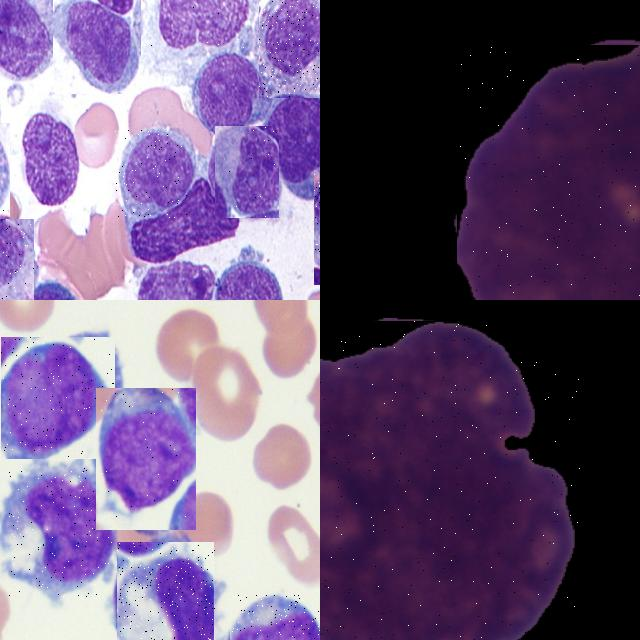ALL Negative Cells: (52, 0, 141, 93), (116, 129, 190, 218), (258, 0, 320, 98), (216, 126, 280, 218), (150, 0, 250, 56), (0, 219, 34, 300)
ALL Positive Cell: (320, 321, 582, 640), (457, 45, 640, 300), (96, 388, 196, 530), (1, 337, 115, 459), (9, 468, 112, 597), (117, 542, 215, 640), (229, 594, 320, 640)
